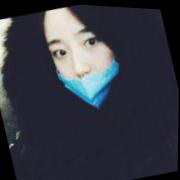WRONG: (43, 16, 129, 117)
